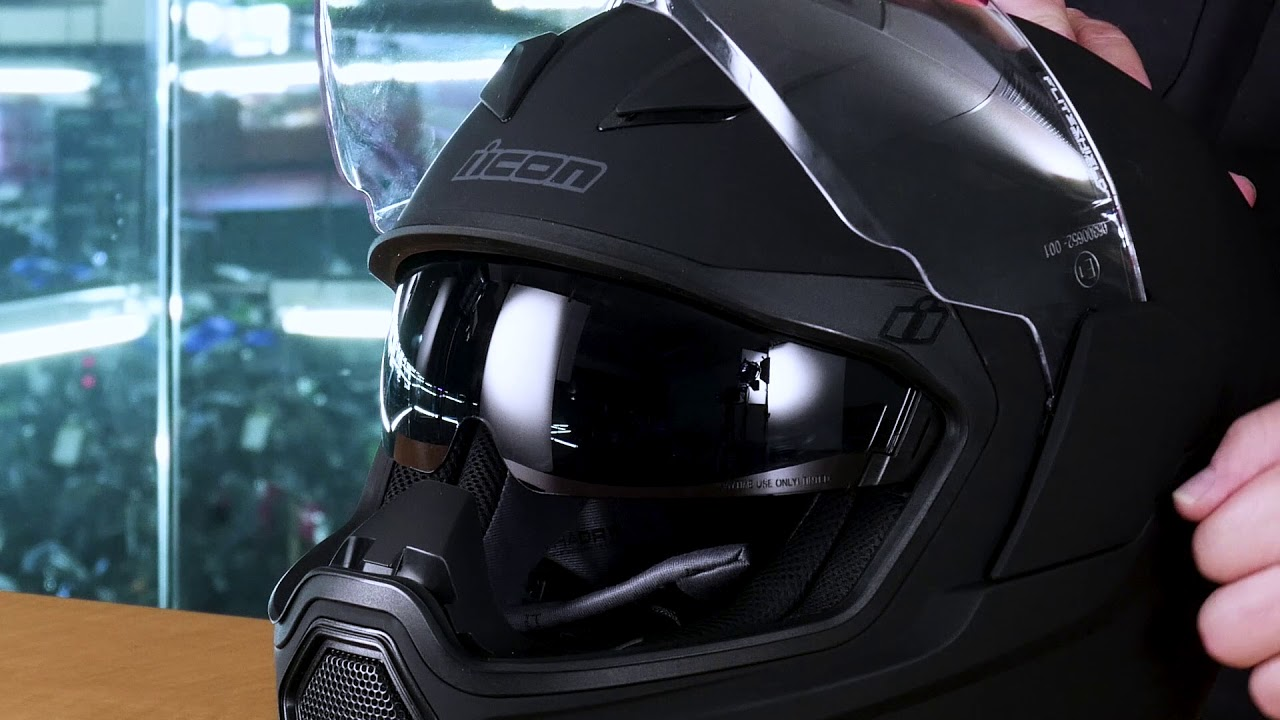with_helmet: (264, 2, 1244, 720)
